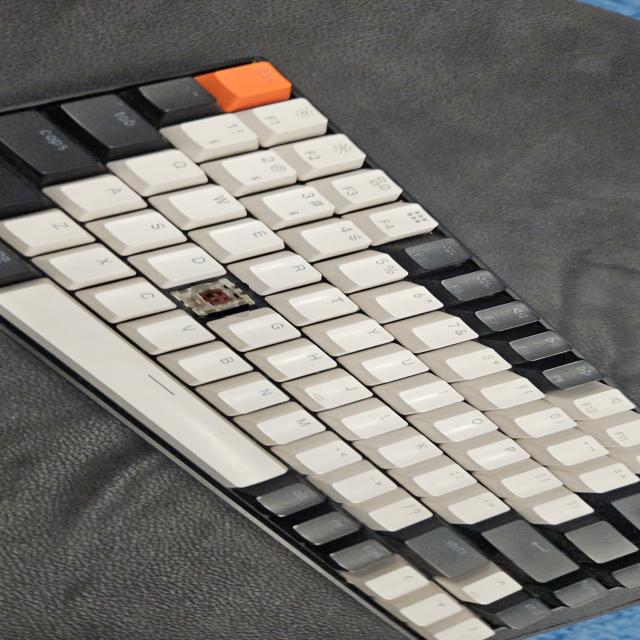C: (191, 284, 249, 318)
